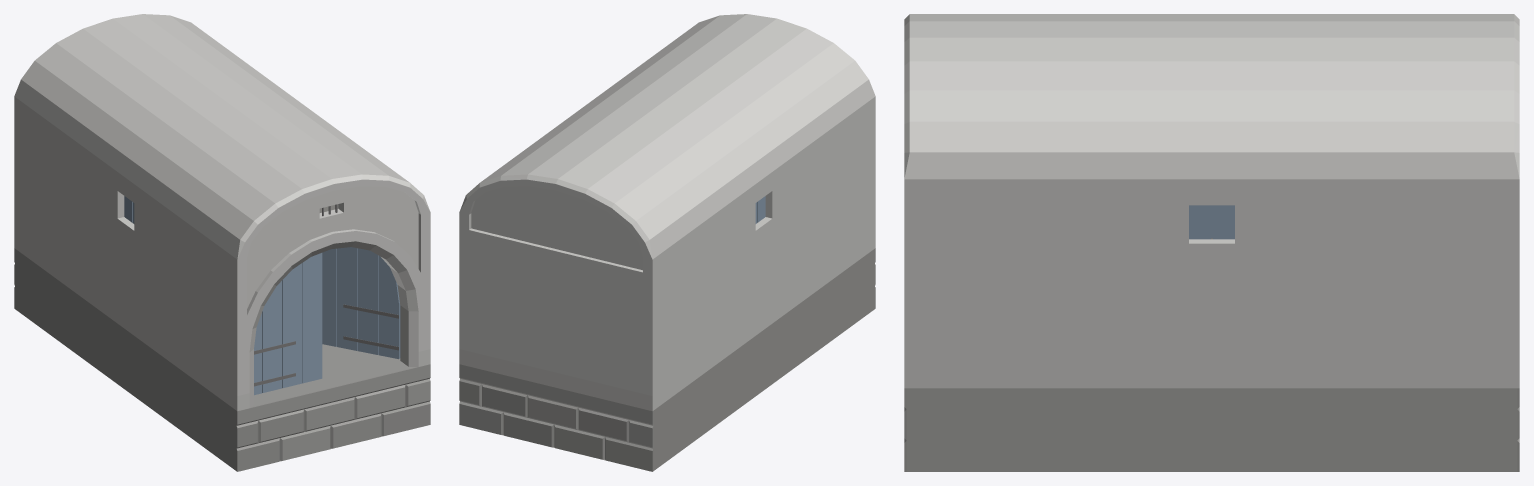
The model's file is boathouse.glb.
The picture shows the model from 3 angles, left to right: view 1: azimuth 30°, elevation 25°; view 2: azimuth 150°, elevation 25°; view 3: azimuth 270°, elevation 25°; orthographic projection. The views are drawn at different scales.
Parts seen in each view (by area): view 1: boathouse.001; view 2: boathouse.001; view 3: boathouse.001.
Part boxes in pixels (x1,y1,x2,y2): boathouse.001: (14, 14, 430, 471); boathouse.001: (459, 14, 875, 471); boathouse.001: (904, 14, 1519, 471).
Size of the model in its own units: 4.4 by 5.83 by 8.8.
